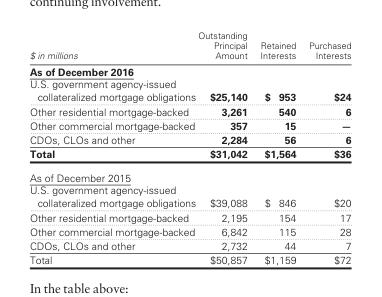table: (28, 29, 350, 265)
table column: (28, 29, 196, 265), (196, 29, 253, 265), (301, 29, 350, 265), (253, 29, 301, 265)
table column header: (28, 29, 350, 62)
table projected row header: (28, 165, 350, 183), (28, 62, 350, 77)
table row: (28, 29, 350, 62), (28, 77, 350, 103), (28, 183, 350, 209), (28, 146, 350, 165), (28, 165, 350, 183), (28, 62, 350, 77), (28, 103, 350, 118), (28, 209, 350, 224), (28, 118, 350, 132), (28, 132, 350, 146), (28, 224, 350, 238), (28, 238, 350, 252), (28, 252, 350, 265)
